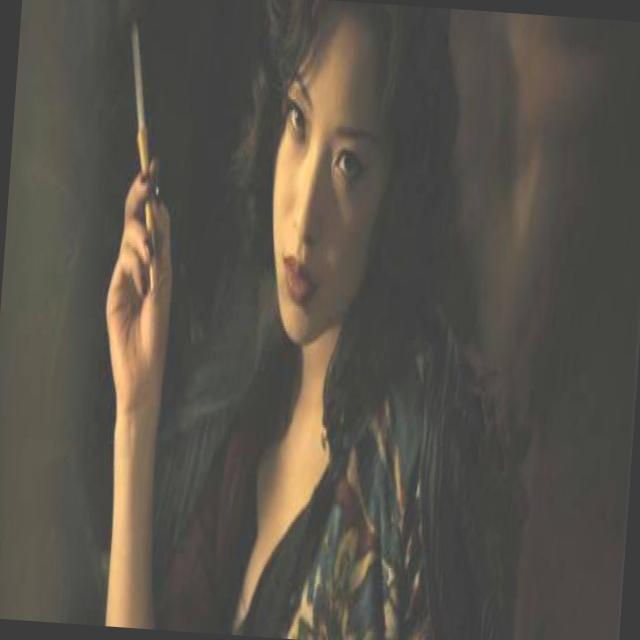smoke: (105, 5, 180, 176)
